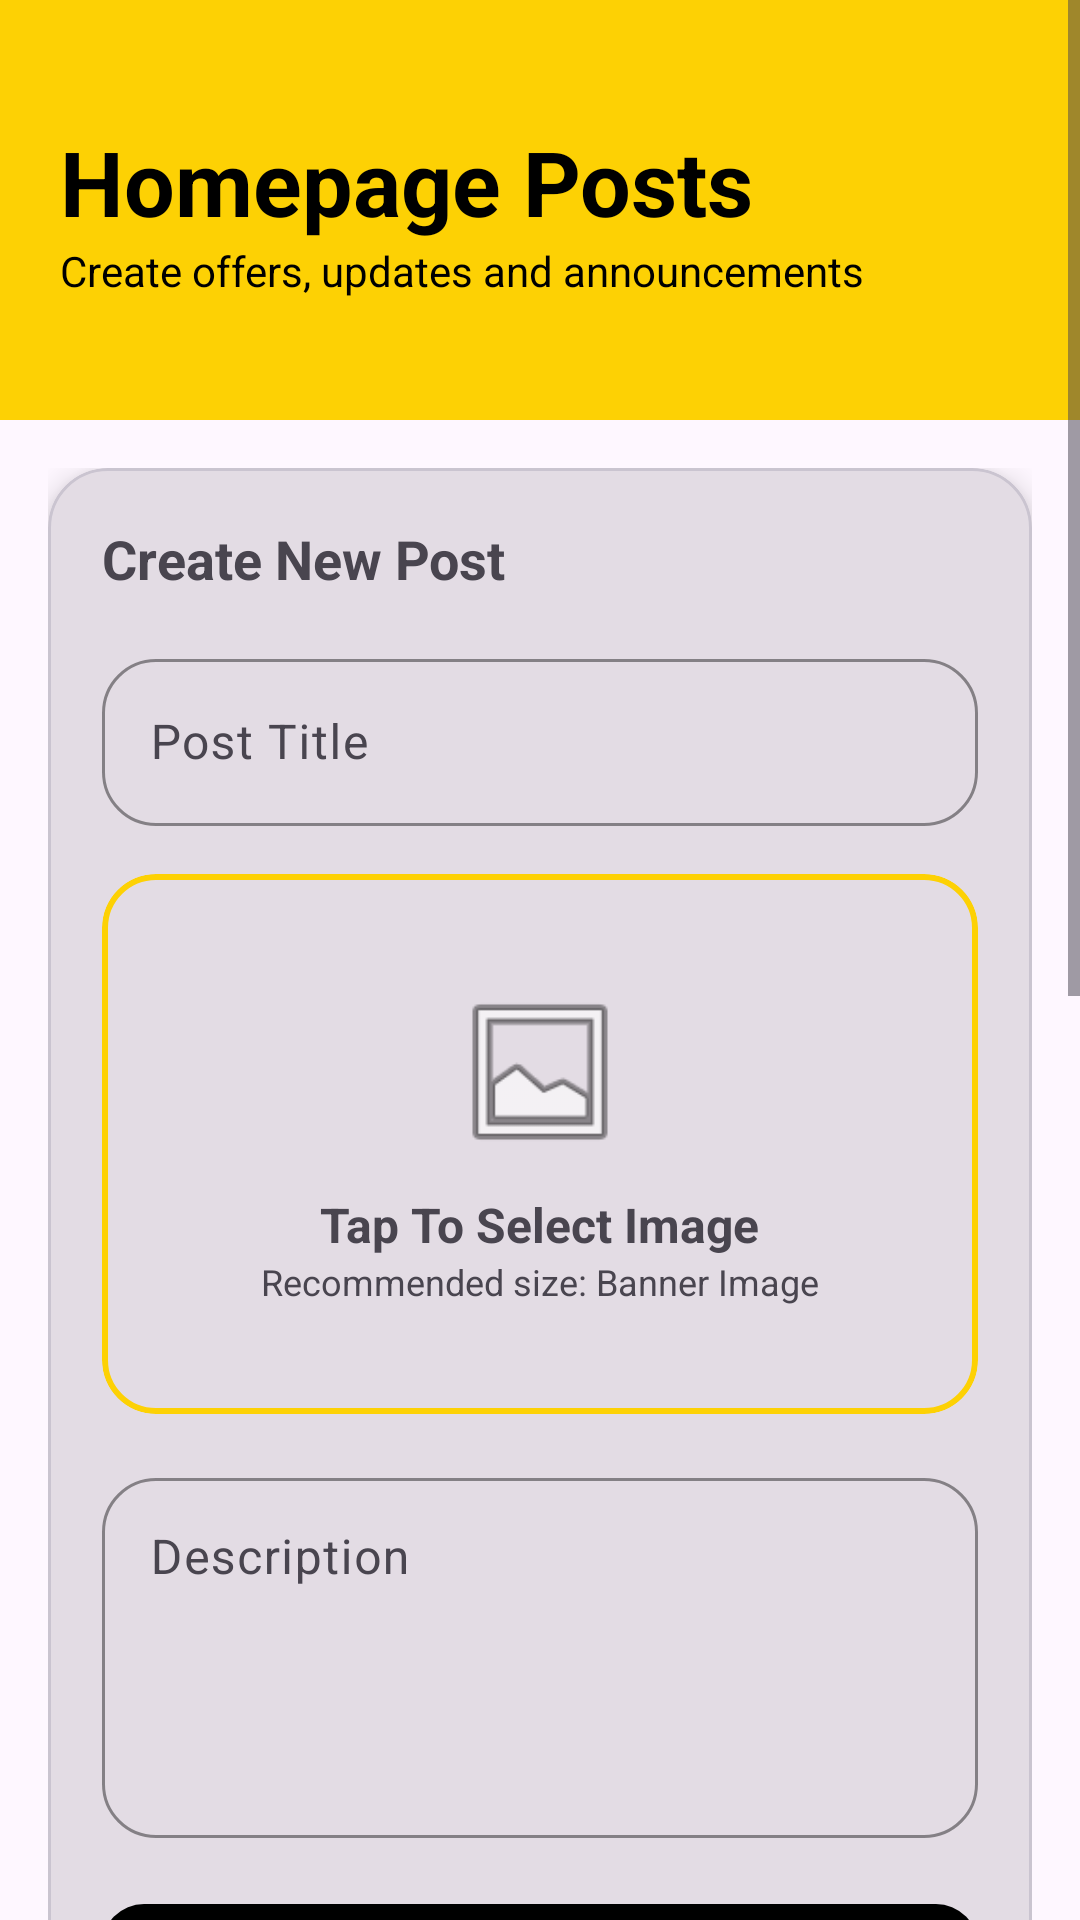

Named icons in this screenshot (1080x1920) and their centers, (x=x, y=y):
gallery: (x=540, y=1072)
